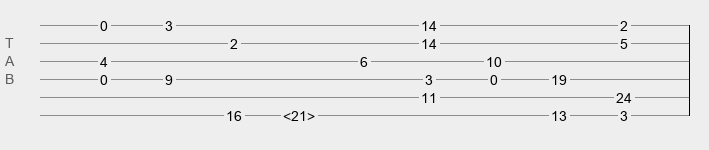0: (100, 72, 108, 82), (100, 18, 108, 28), (490, 72, 498, 82)
10: (486, 54, 502, 64)
11: (421, 90, 437, 100)
13: (551, 108, 567, 118)
14: (421, 18, 437, 28), (421, 36, 437, 46)
16: (226, 108, 242, 118)
19: (551, 72, 567, 82)
2: (230, 36, 238, 46), (620, 18, 628, 28)
24: (616, 90, 632, 100)
3: (165, 18, 173, 28), (425, 72, 433, 82), (620, 108, 628, 118)
4: (100, 54, 108, 64)
5: (620, 36, 628, 46)
6: (360, 54, 368, 64)
9: (165, 72, 173, 82)
harmonic: (283, 108, 315, 118)
